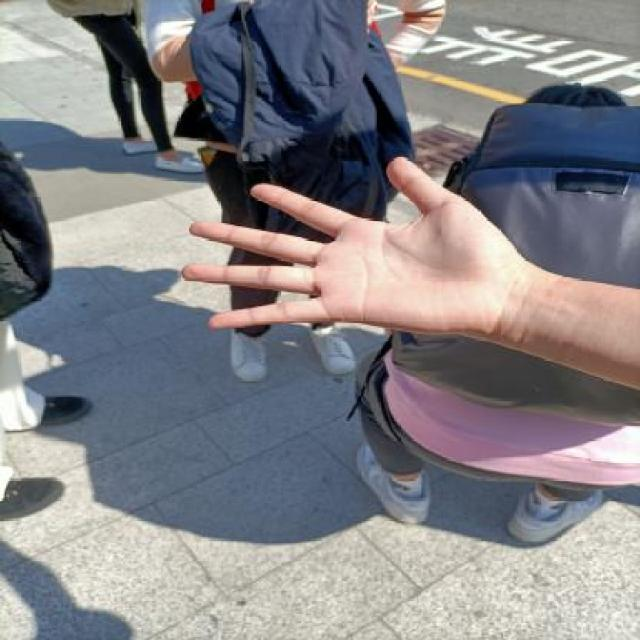bare_hand: (165, 133, 544, 361)
